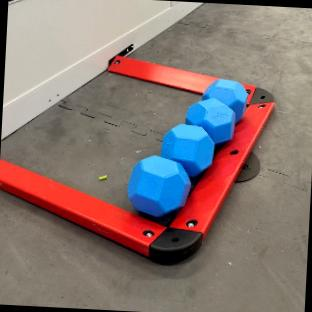Parking-R: (0, 83, 273, 262)
V5_BLUE: (128, 156, 189, 216), (161, 123, 213, 175), (185, 98, 236, 141), (202, 79, 246, 119)
